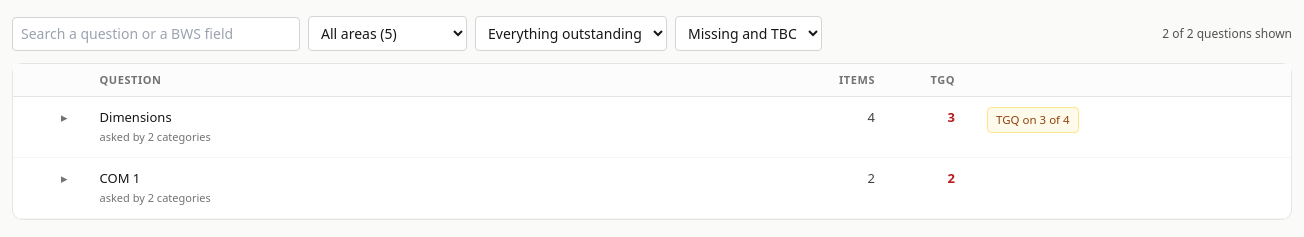
it: QuestionGroups › AN AREA FILTER NARROWS WHAT IS LISTED AND CHANGES NO COUNT
Step 1. Select "Signature Suite (3)" in the dropdown named "Filter by area" → (388, 34), box [308,16,467,51]
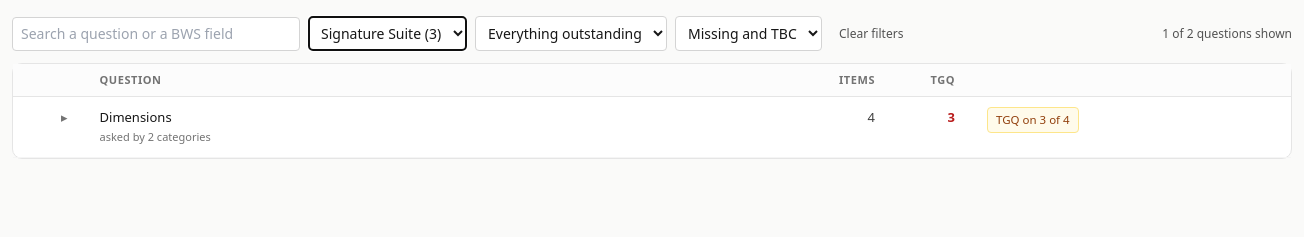
Expected: the text "Dimensions" is shown, [100,108,172,126]
Now the text "COM 1" is gone
Now the text "1 of 2 questions shown" is shown, box [1162,26,1292,42]
